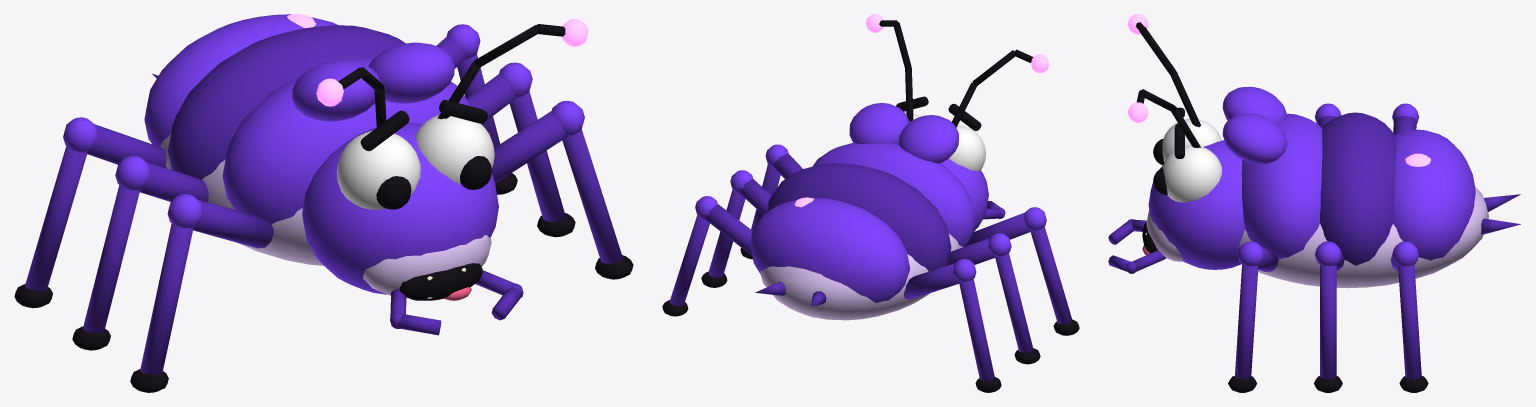
The model's file is Crawler_Grape.fbx.
3 views of the same model, side by side, from view 1: azimuth 30°, elevation 25°; view 2: azimuth 150°, elevation 25°; view 3: azimuth 270°, elevation 25° (orthographic). The views are drawn at different scales.
Visible parts, largest first — view 1: Body, LegsA, LegsB; view 2: Body, LegsA, LegsB; view 3: Body, LegsB, LegsA.
Boxes of the visible parts, <box> form: Body: <box>144,14,588,335</box>; LegsA: <box>14,62,575,392</box>; LegsB: <box>72,24,633,350</box>; Body: <box>750,14,1049,320</box>; LegsA: <box>701,170,1079,392</box>; LegsB: <box>662,144,1040,364</box>; Body: <box>1108,14,1520,288</box>; LegsB: <box>1228,103,1428,392</box>; LegsA: <box>1314,103,1418,392</box>.
Size of the model in its own units: 2.03 by 1.32 by 1.98.
